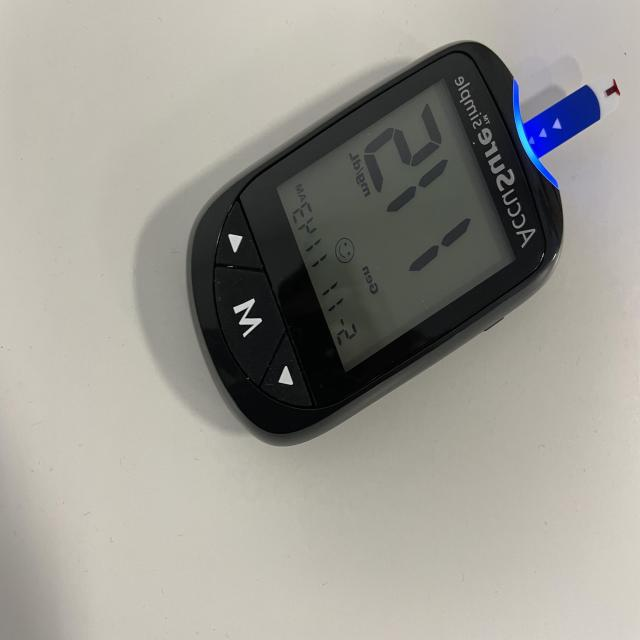gluco: (185, 42, 564, 444)
